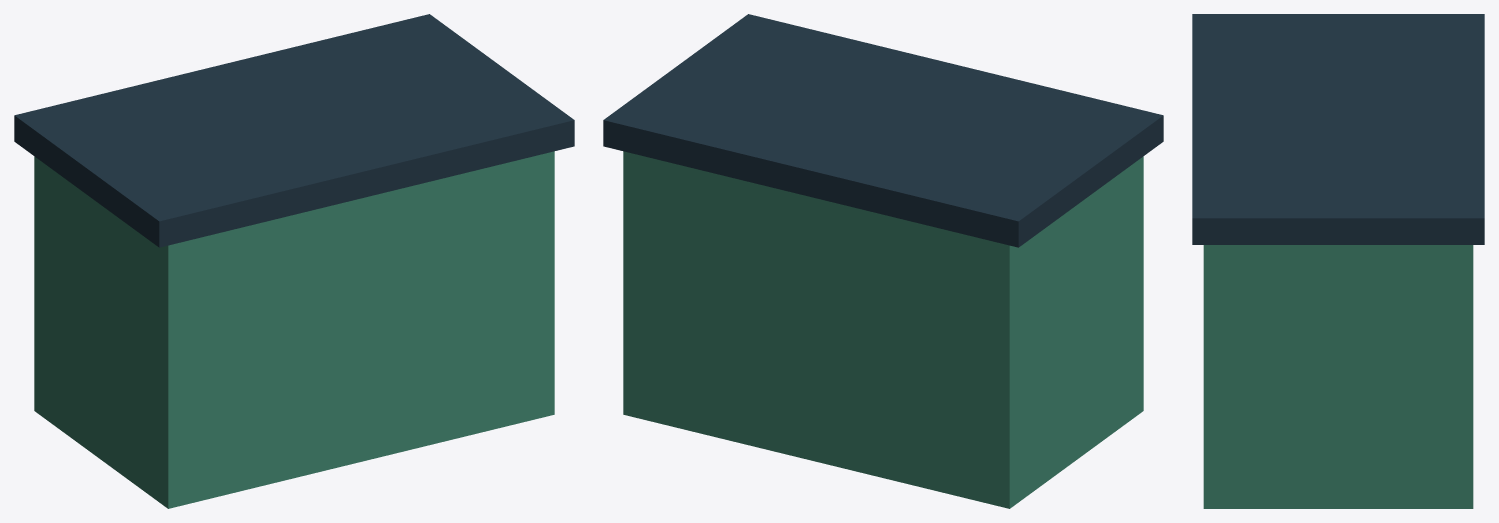
File: dumpster.obj
The picture shows the model from 3 angles, left to right: view 1: azimuth 30°, elevation 25°; view 2: azimuth 150°, elevation 25°; view 3: azimuth 270°, elevation 25°; orthographic projection.
Parts seen in each view (by area): view 1: dumpster; view 2: dumpster; view 3: dumpster.
Boxes of the visible parts, x1=… form: dumpster: x1=14, y1=14, x2=574, y2=508; dumpster: x1=603, y1=14, x2=1163, y2=508; dumpster: x1=1192, y1=14, x2=1484, y2=508.
Bounding box in the file's own units: 2.15 × 1.49 × 1.3.
